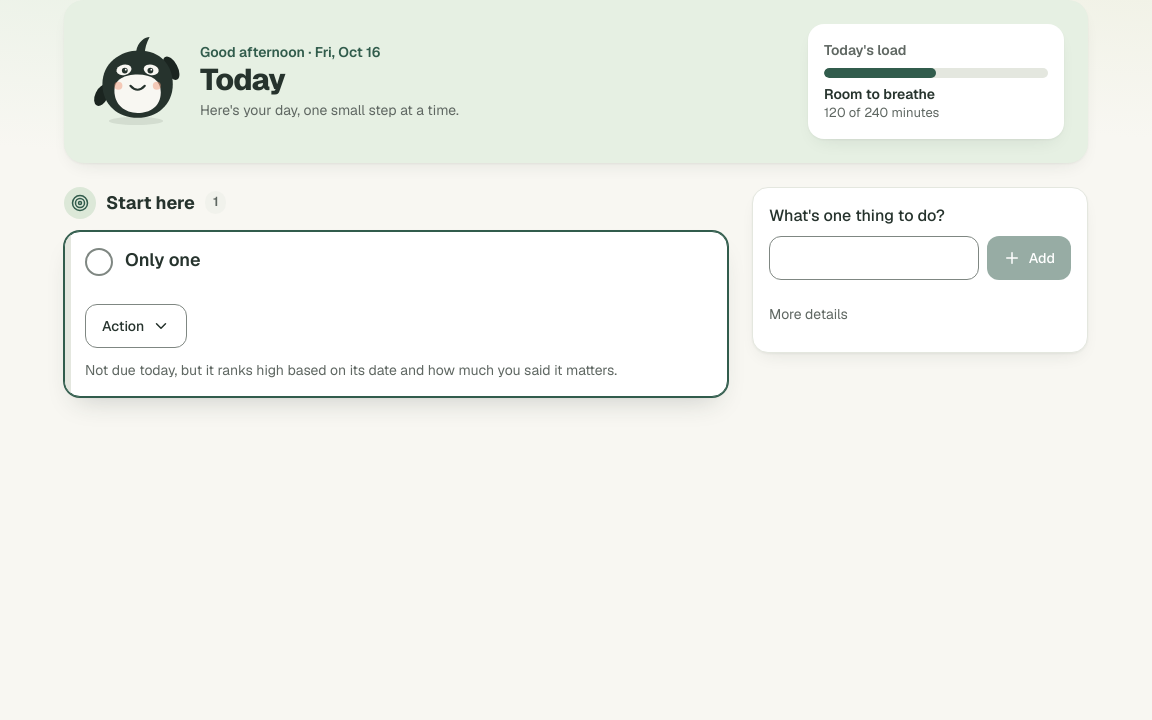
it: TodayView › undoes marking a task done, on the server
The width and height of the screenshot is (1152, 720).
Click the checkbox labelled "Only one" at (99,262), box [85,248,113,276]
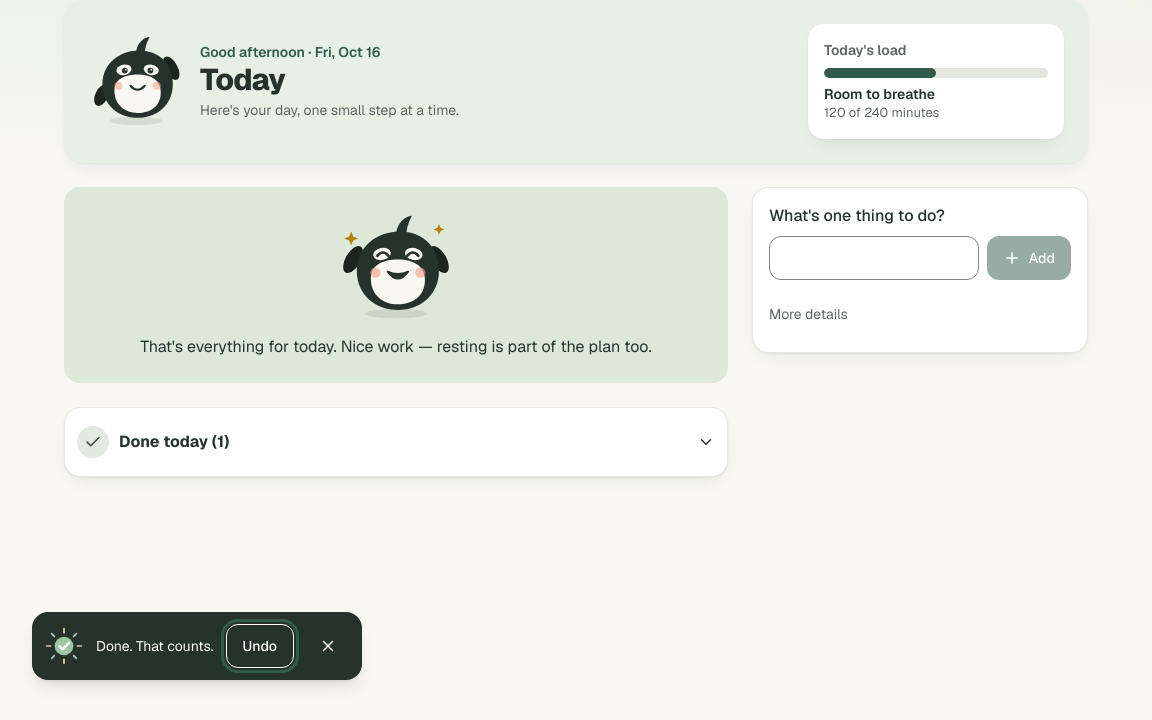
Click the button "Undo" at (260,646), box [226,624,294,668]
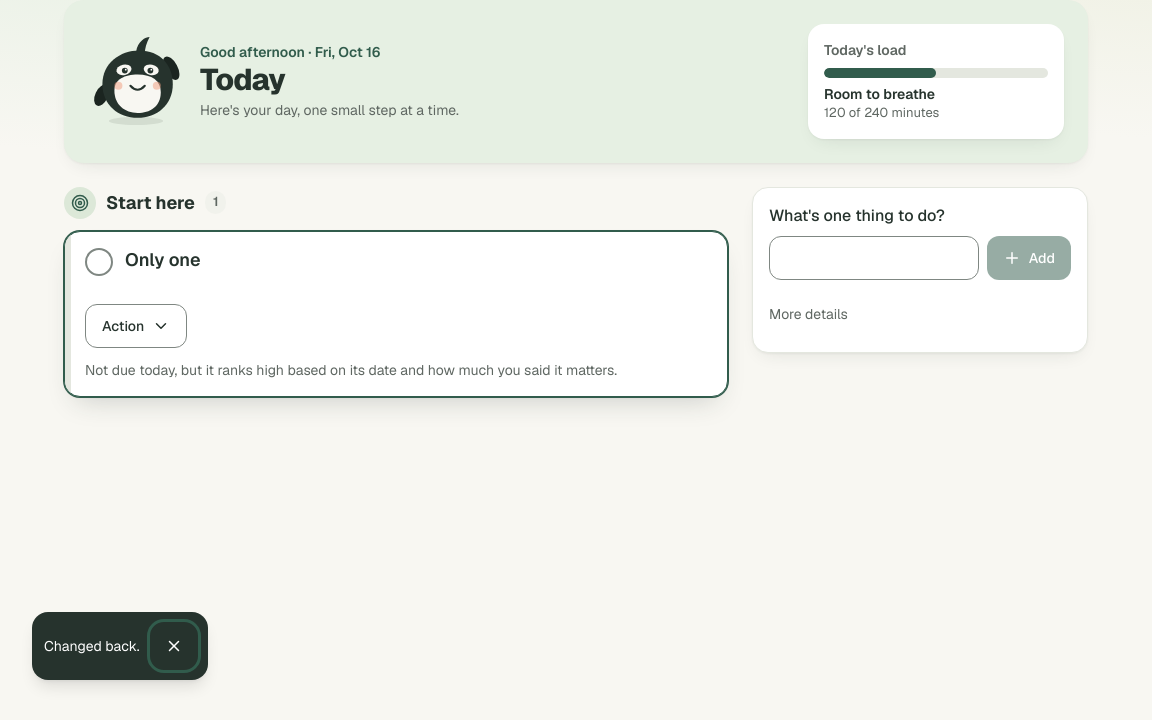
Result: the text "Changed back." is shown at [44,636,140,656]
Result: the heading "Start here" is shown at [106,190,195,216]
